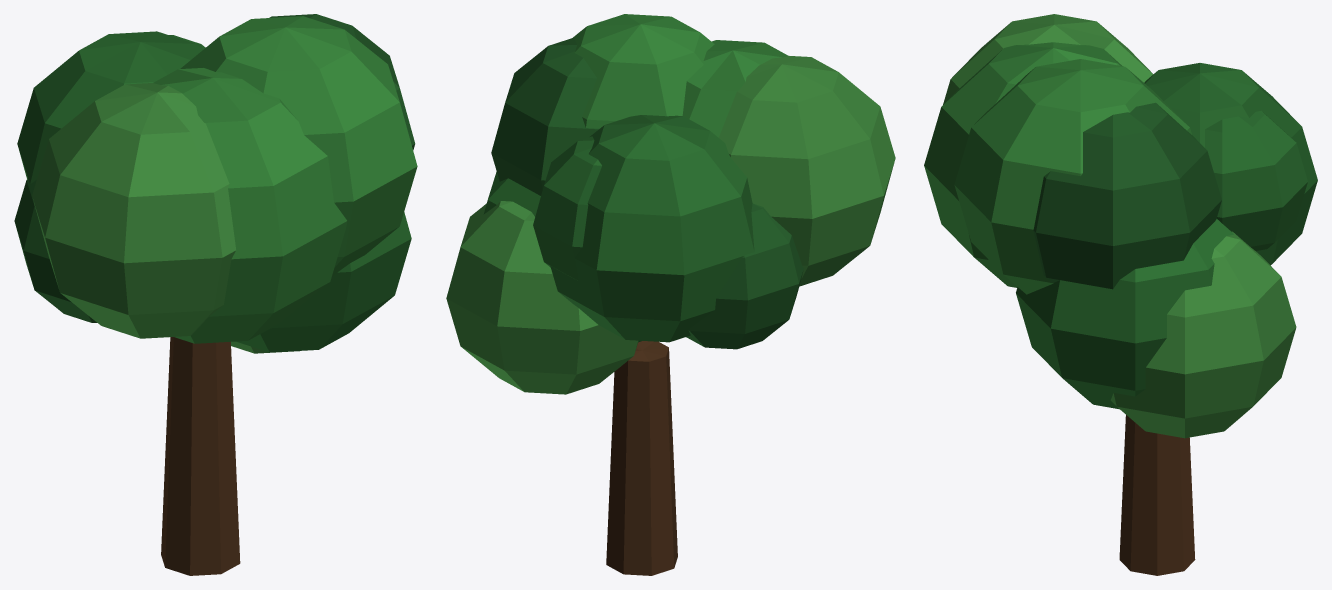
Rendered from tree.glb.
The picture shows the model from 3 angles, left to right: view 1: azimuth 30°, elevation 25°; view 2: azimuth 150°, elevation 25°; view 3: azimuth 270°, elevation 25°; orthographic projection. The views are drawn at different scales.
Parts seen in each view (by area): view 1: tree; view 2: tree; view 3: tree.
Part boxes in pixels (x1,y1,x2,y2): tree: [14, 14, 417, 575]; tree: [446, 14, 895, 575]; tree: [924, 14, 1317, 575].
Size of the model in its own units: 1.8 by 2.37 by 1.67.
